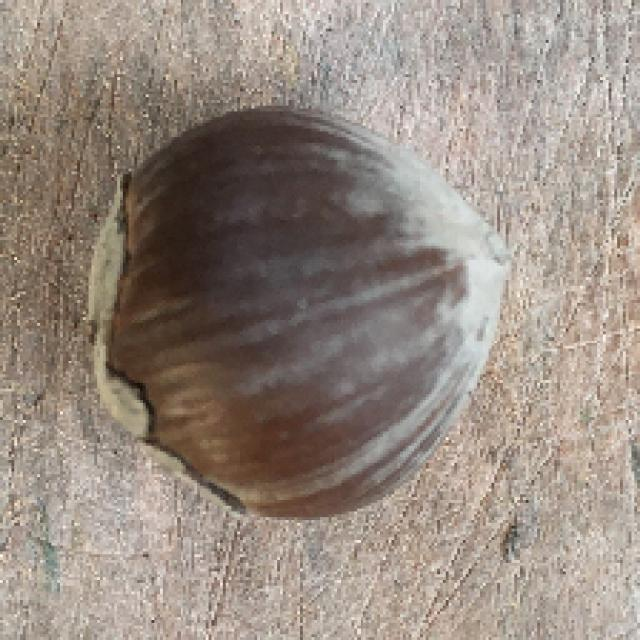damagedHazelnut: (84, 100, 522, 533)
